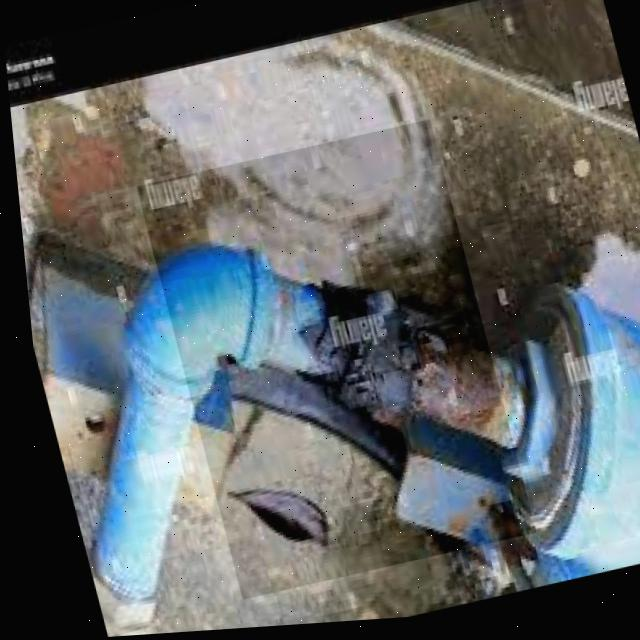corrosion: (267, 236, 480, 467)
